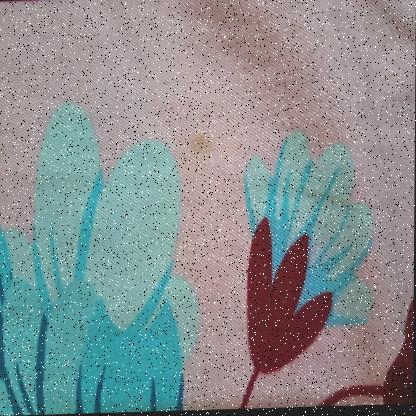spot: (184, 131, 220, 161)
